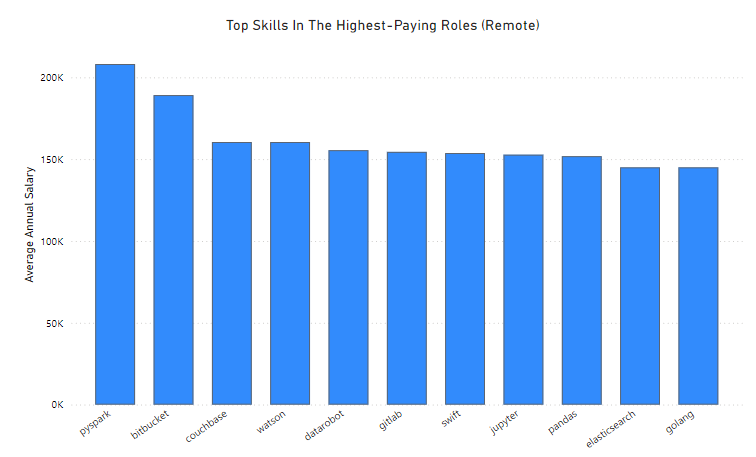

The dashboard page shown, as its layout file describes it:
{"tool":"powerbi","page":{"name":"Page 3","canvas":[1280,720],"ordinal":2},"visuals":[{"type":"columnChart","title":"Top Skills In The Highest-Paying Roles (Remote)","fields":{"Category":["top_paying_skills_remote_LA.skills"],"Y":["Sum(top_paying_skills_remote_LA.skill_average_salary)"]},"box":[203.4,127.5,837.6,520.5],"z":0}]}

Visuals, with their boxes on the page's 1280x720 design canvas (x1, y1, x2, y2). These are canvas units, not pixel positions in the 756x457 screenshot, which may show the page scaled, cropped or inside an application window:
"Top Skills In The Highest-Paying Roles (Remote)" columnChart: box(203, 128, 1041, 648)
